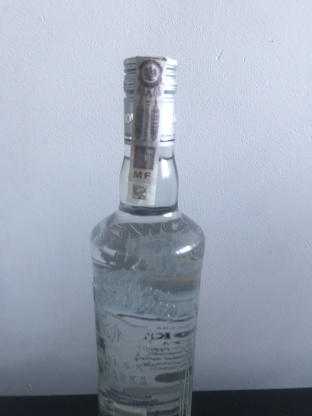nakretka: (120, 51, 180, 149)
